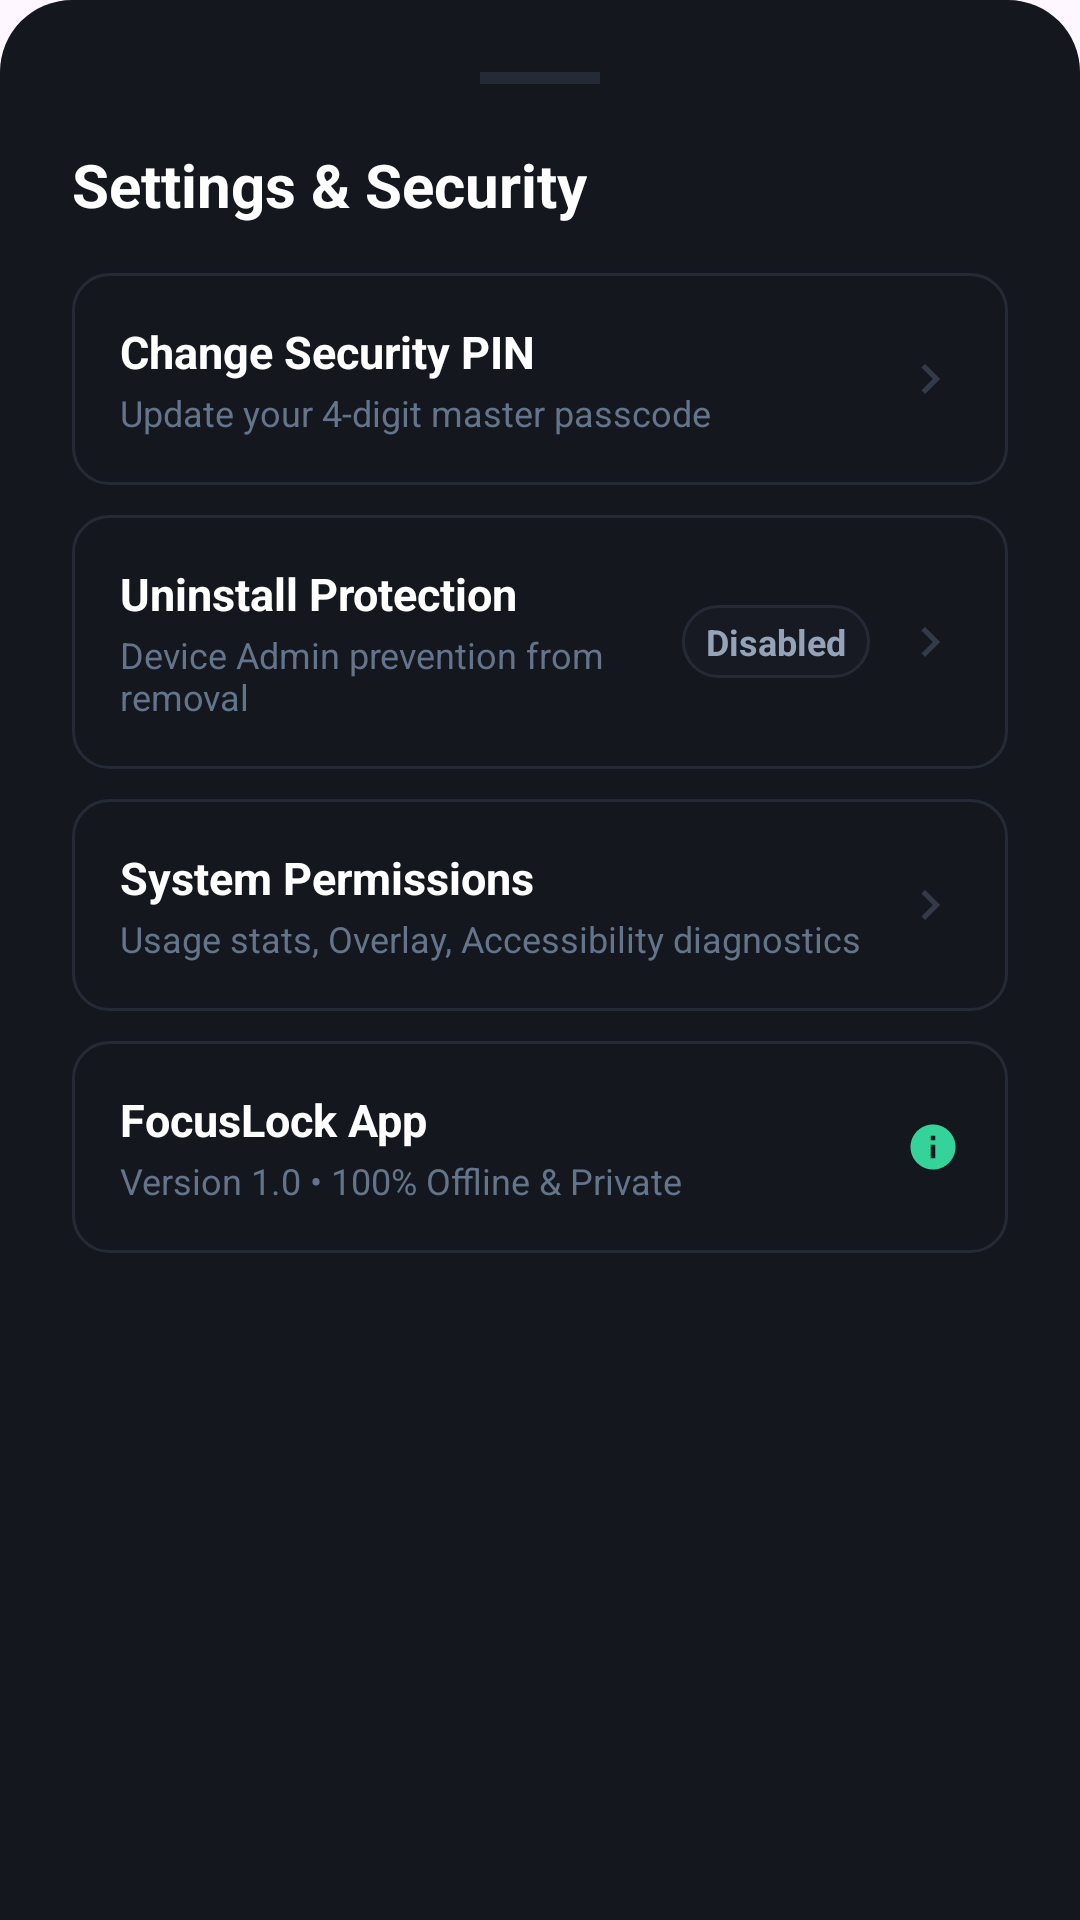

Icons on this 1080×1920 Android screen, each with its box as (x1, y1, x2, y2):
chevron right: (922, 364, 940, 394), (922, 627, 940, 657), (922, 890, 940, 920)
info circle: (910, 1124, 956, 1170)
